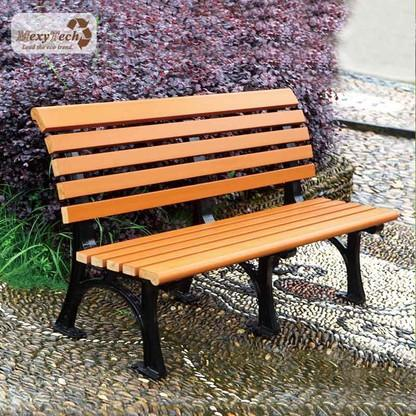obstacle: (20, 85, 401, 379)
